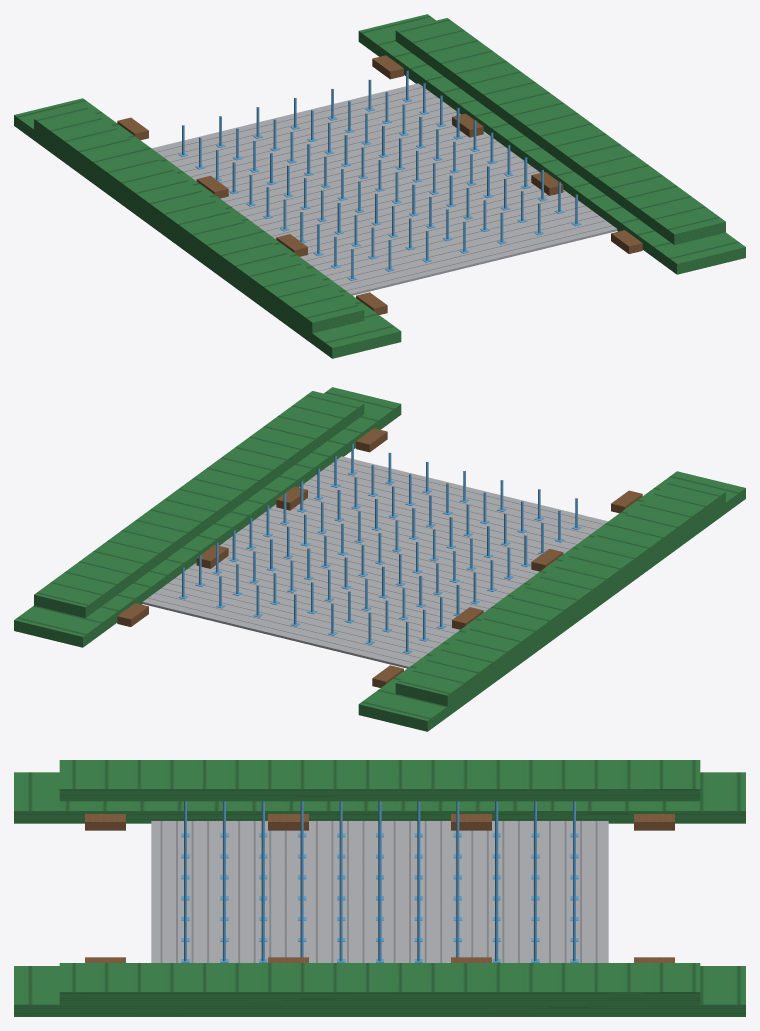
3 renders of one model, top to bottom at view 1: azimuth 30°, elevation 25°; view 2: azimuth 150°, elevation 25°; view 3: azimuth 270°, elevation 25°, orthographic. The views are drawn at different scales.
Parts seen in each view (by area): view 1: node_component_11110_04_03072_002_02_four_seasons_garden, node_component_11110_04_03072_002_01_myeongnyang_fountain, node_component_11110_04_03072_002_03_plaza_amenities; view 2: node_component_11110_04_03072_002_02_four_seasons_garden, node_component_11110_04_03072_002_01_myeongnyang_fountain, node_component_11110_04_03072_002_03_plaza_amenities; view 3: node_component_11110_04_03072_002_02_four_seasons_garden, node_component_11110_04_03072_002_01_myeongnyang_fountain, node_component_11110_04_03072_002_03_plaza_amenities.
Part boxes in pixels (box(x1,y1,x2,y2)): node_component_11110_04_03072_002_02_four_seasons_garden: box(14, 14, 745, 358); node_component_11110_04_03072_002_01_myeongnyang_fountain: box(152, 70, 617, 295); node_component_11110_04_03072_002_03_plaza_amenities: box(117, 55, 642, 314); node_component_11110_04_03072_002_02_four_seasons_garden: box(14, 387, 745, 731); node_component_11110_04_03072_002_01_myeongnyang_fountain: box(142, 443, 607, 668); node_component_11110_04_03072_002_03_plaza_amenities: box(117, 428, 642, 687); node_component_11110_04_03072_002_02_four_seasons_garden: box(14, 760, 745, 1016); node_component_11110_04_03072_002_01_myeongnyang_fountain: box(151, 801, 608, 962); node_component_11110_04_03072_002_03_plaza_amenities: box(85, 814, 674, 962).
Size of the model in its own units: 24 by 1.8 by 32.
4 materials, 4 textured.
